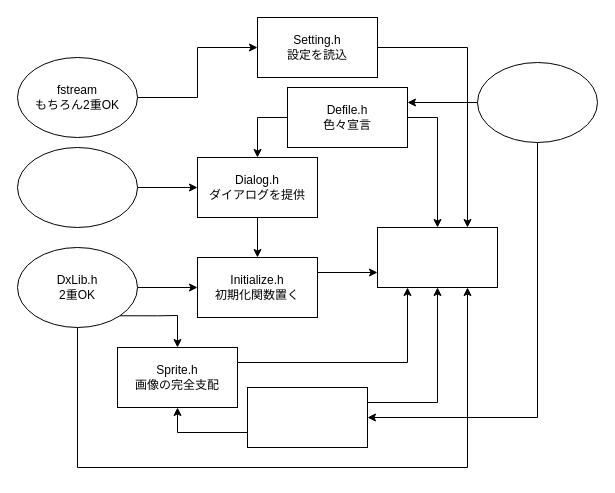
This 615x493 diagram has some shape labels left out. The centre of each missing label's shape, as x and y in pixels:
cmath 多分おｋ: the point at 537,102
main.cpp メイン: the point at 437,257
Vector.h 座標の構造体: the point at 307,417
Windows.h 2重OK: the point at 77,187
